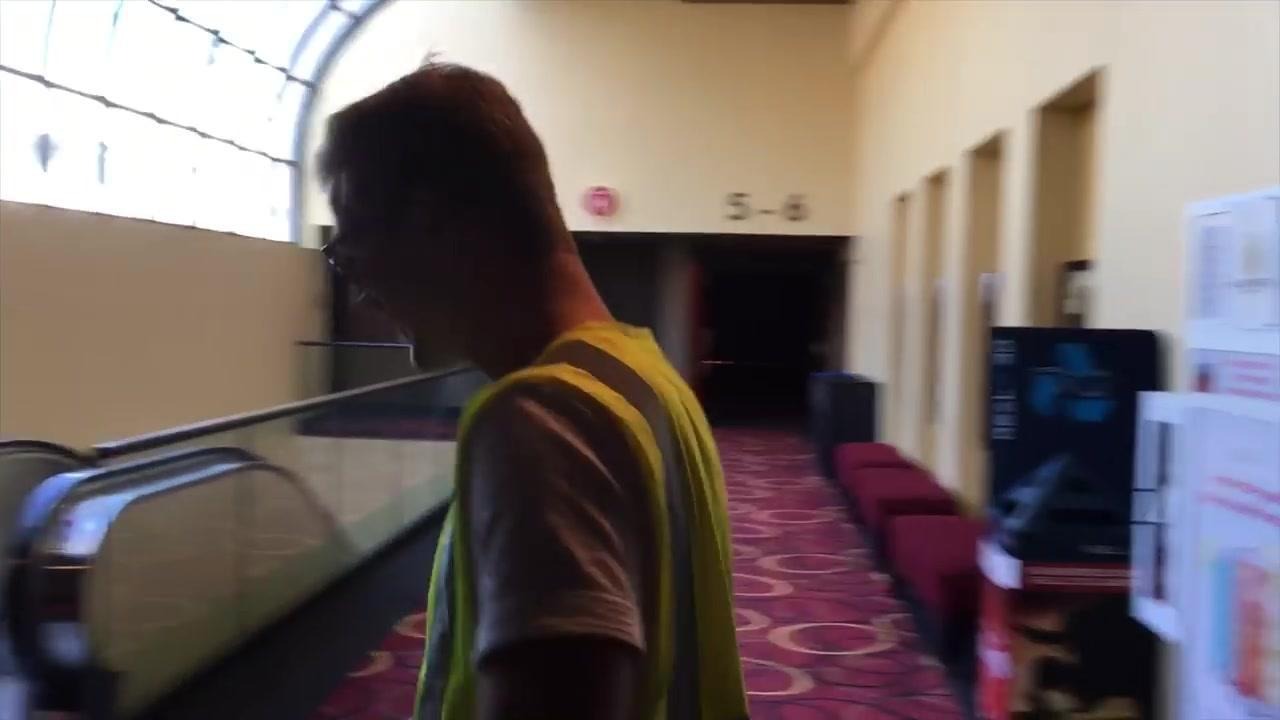vest: (413, 319, 755, 717)
